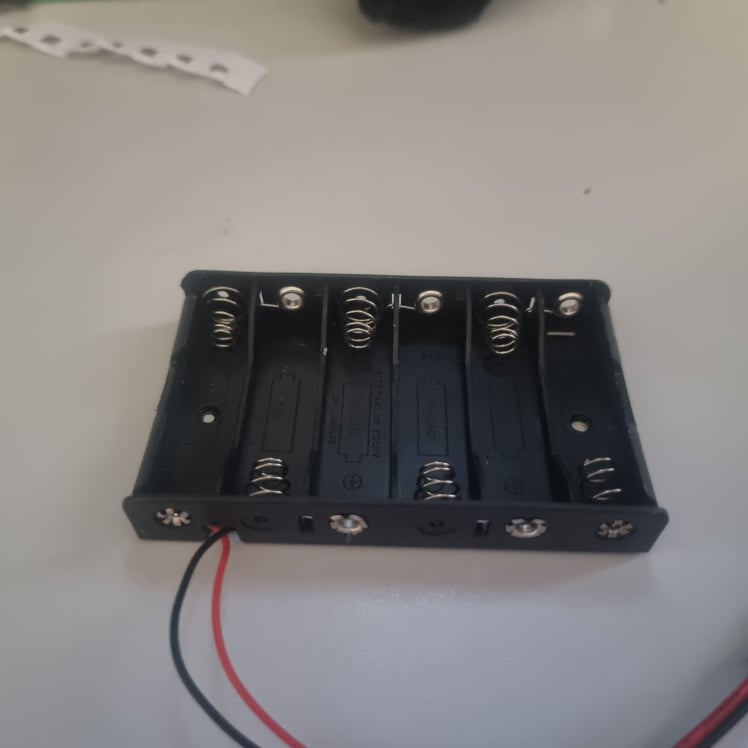BATTERY BOX: (119, 269, 668, 548)
